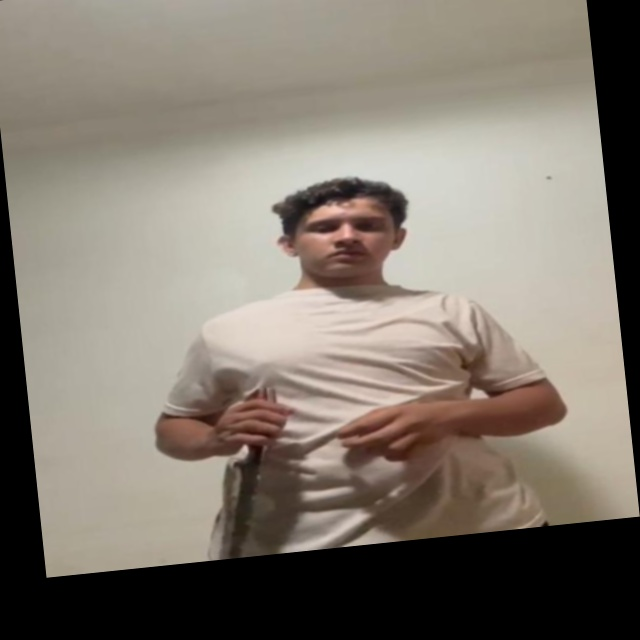Sharp-Object: (207, 454, 272, 560)
